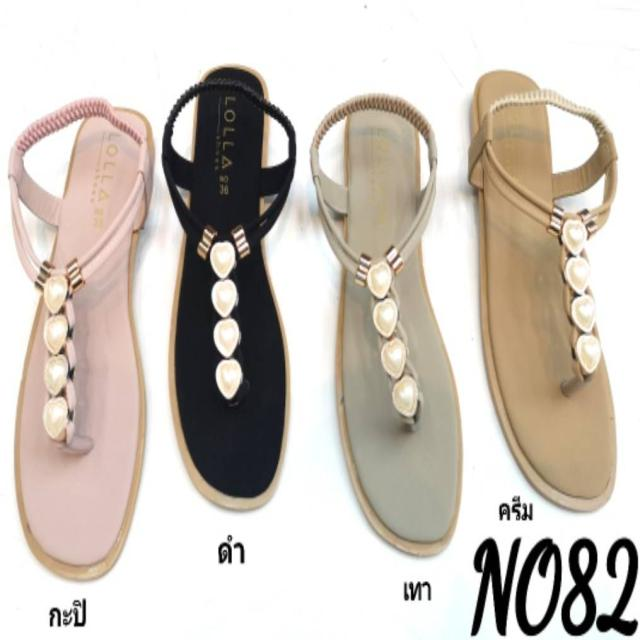black: (171, 66, 286, 497)
cream: (474, 74, 616, 504)
grey: (339, 99, 459, 548)
kapi: (16, 110, 150, 572)
